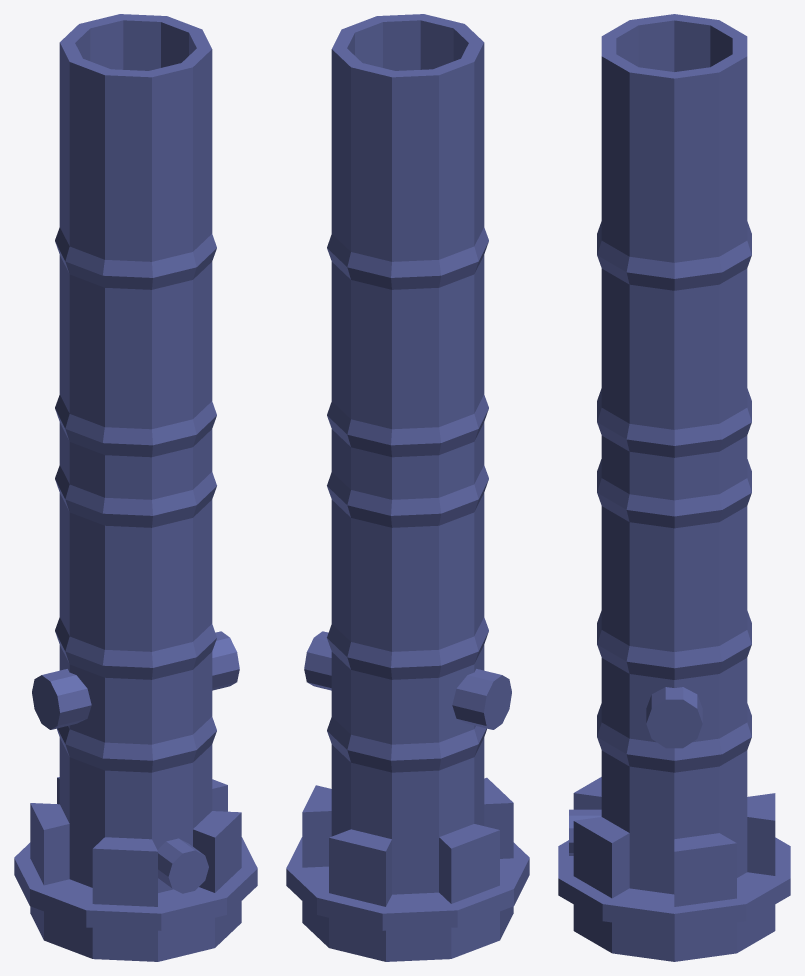
File: pipe.fbx
The picture shows the model from 3 angles, left to right: view 1: azimuth 30°, elevation 25°; view 2: azimuth 150°, elevation 25°; view 3: azimuth 270°, elevation 25°; orthographic projection.
Visible parts, largest first — view 1: pTorus6; view 2: pTorus6; view 3: pTorus6.
Part boxes in pixels (x1,y1,x2,y2): pTorus6: (14,14,257,961); pTorus6: (286,14,529,961); pTorus6: (558,14,790,961).
Bounding box in the file's own units: 8.67 × 34.06 × 8.24.
